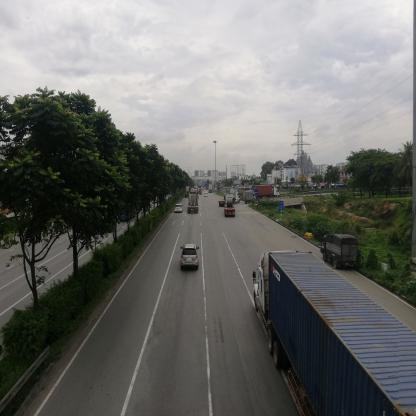car: (180, 245, 200, 272), (175, 204, 183, 214), (205, 193, 209, 198)
container: (257, 252, 400, 416), (254, 186, 281, 199), (225, 195, 236, 216), (189, 195, 200, 215)
truck: (325, 236, 356, 272), (243, 193, 255, 206)
